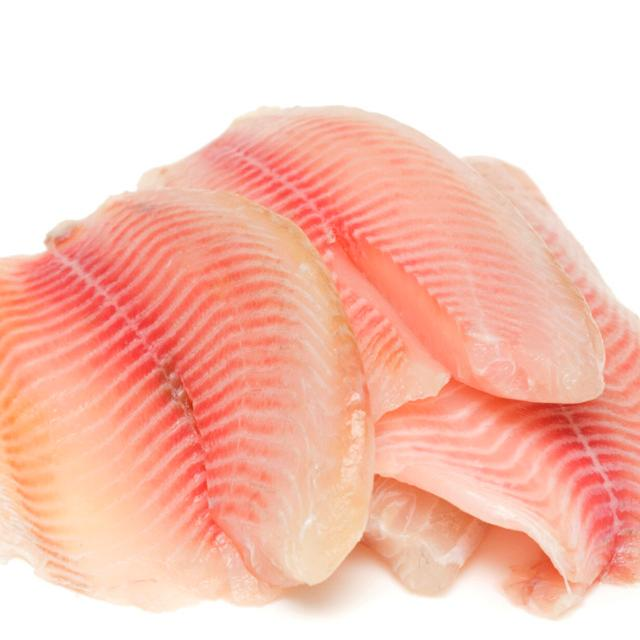fish: (0, 170, 394, 620)
